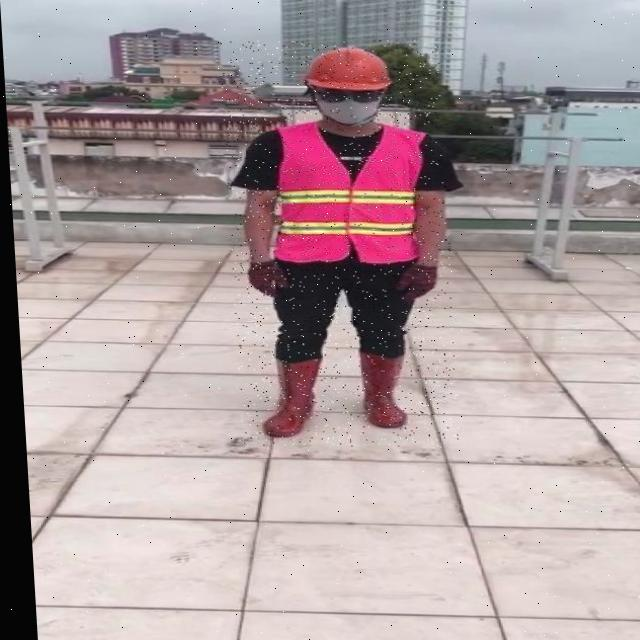Gloves: (390, 262, 436, 300), (244, 259, 286, 297)
Helmet: (301, 47, 394, 127)
Safety-Boot: (256, 355, 321, 438), (355, 349, 405, 428)
Safety-Vest: (265, 121, 432, 266)
